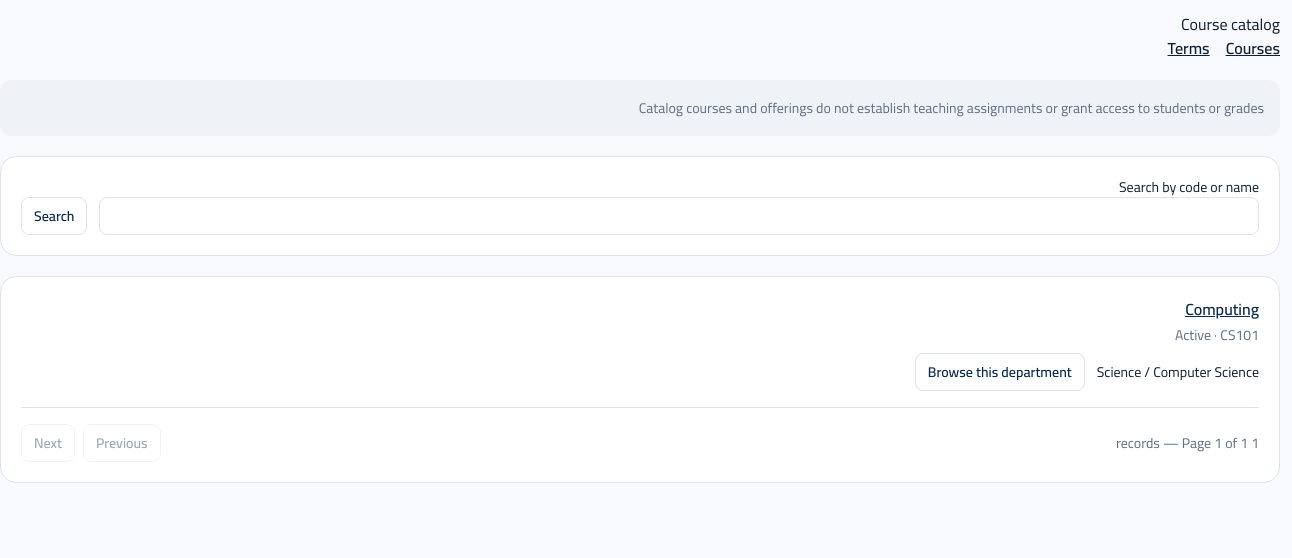
Test: Admin and Teacher academic reference workflows › renders teacher course details and paginated offering reference data
The image size is (1292, 558).
Later steps or results of the test are not shown.
Click the link "Computing" at (1222, 309), box [1185,294,1259,324]
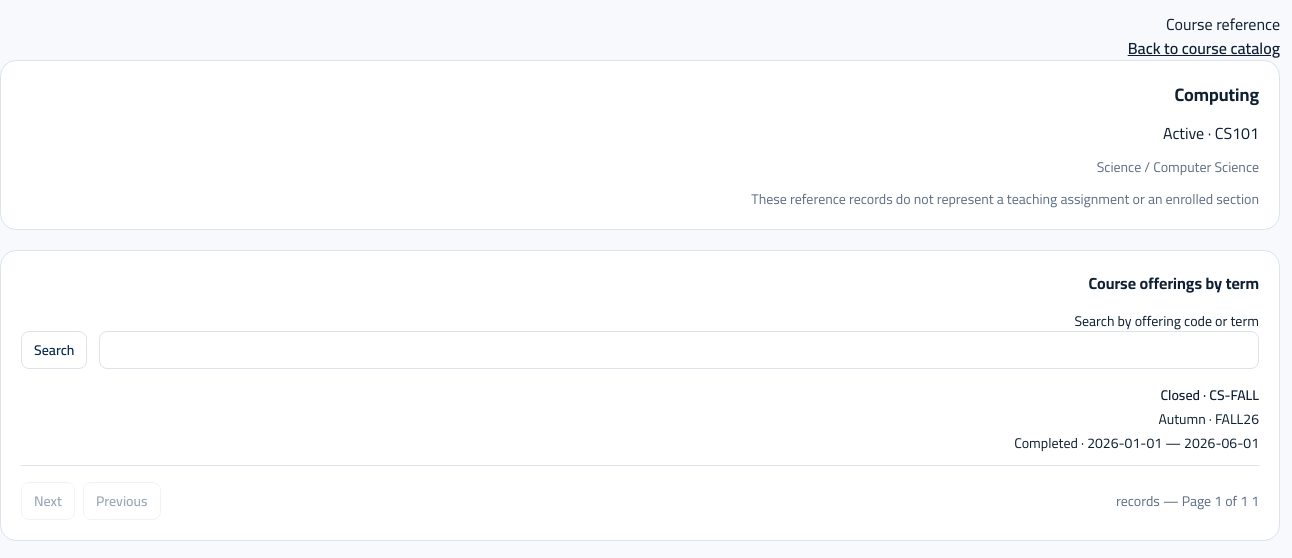
Now the text "CS-FALL" is shown, box [1209,382,1259,408]
Now the text "Autumn · FALL26" is shown, box [1158,406,1259,432]
